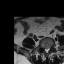CCS_normal: (46, 47, 47, 54)
LFS_severe_stenosis: (50, 45, 51, 50)
LLS_normal: (47, 46, 50, 52)
RFS_severe_stenosis: (42, 46, 44, 51)
RLS_normal: (44, 46, 46, 53)
